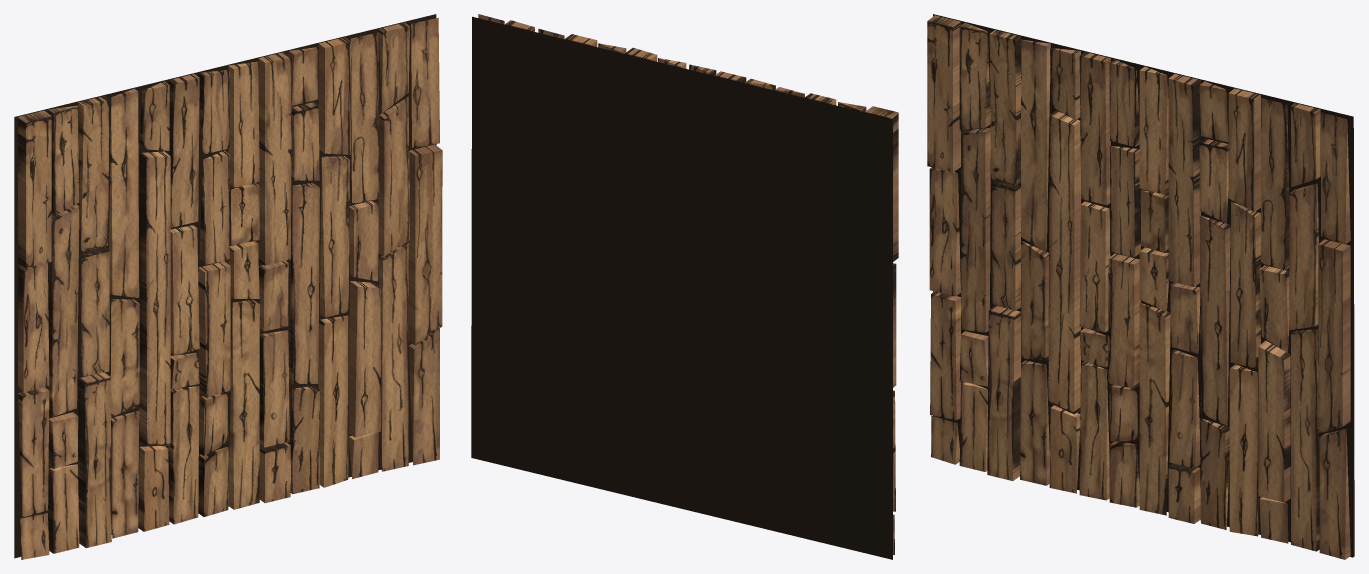
The model's file is wooden_wall_new.glb.
3 renders of one model, left to right at view 1: azimuth 30°, elevation 25°; view 2: azimuth 150°, elevation 25°; view 3: azimuth 330°, elevation 25°, orthographic.
Parts seen in each view (by area): view 1: Wood Wall; view 2: Wood Wall; view 3: Wood Wall.
Boxes of the visible parts, x1,y1,x2,y2 form: Wood Wall: (14, 14, 442, 559); Wood Wall: (471, 14, 898, 559); Wood Wall: (927, 14, 1354, 559).
Bounding box in the file's own units: 2 × 2 × 0.0773.
1 material, 1 textured.
